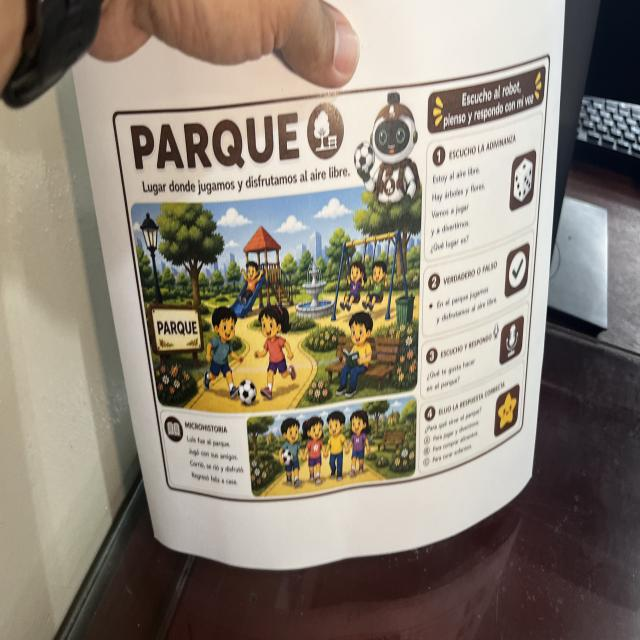parque: (109, 48, 554, 509)
